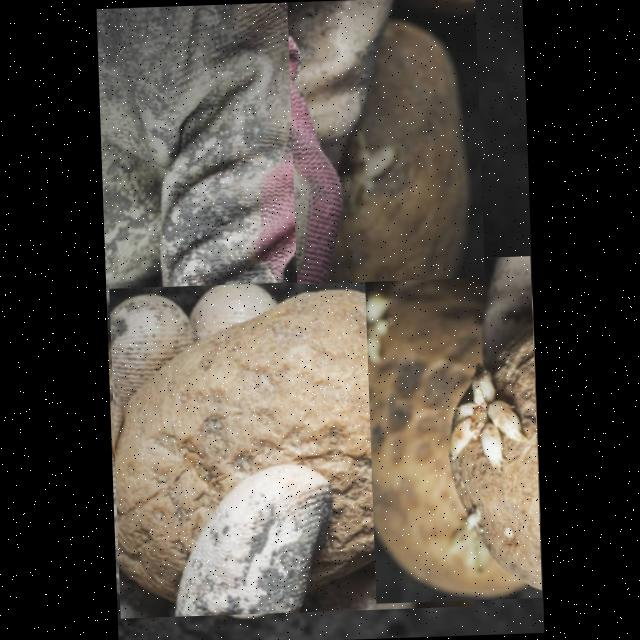Sprouted potato: (109, 275, 474, 617), (364, 255, 542, 602), (286, 0, 484, 282)
